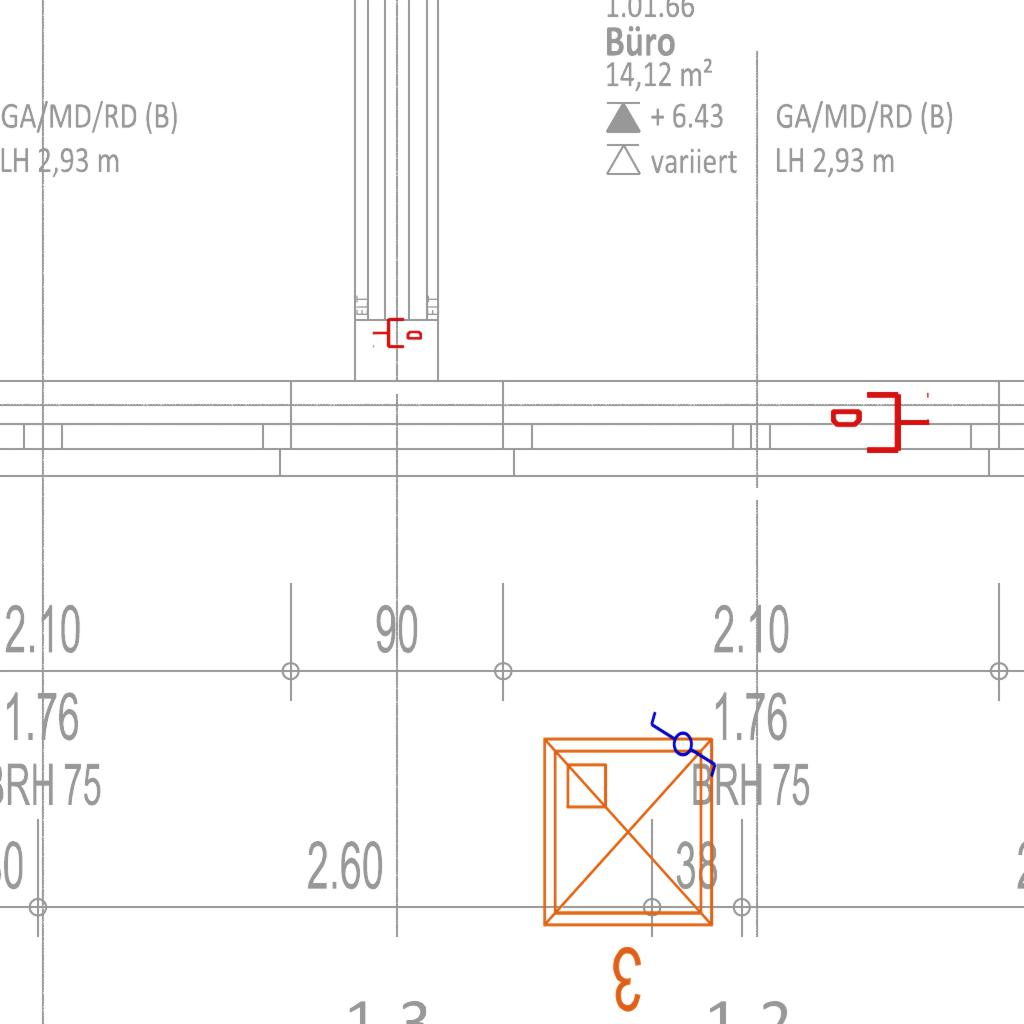Datenanschluss_einfach: (831, 388, 931, 457), (372, 316, 422, 350)
Einbaudownlights_LED_Konferenzraeume: (528, 723, 736, 1023)
Wechselschalter: (648, 701, 720, 779)
